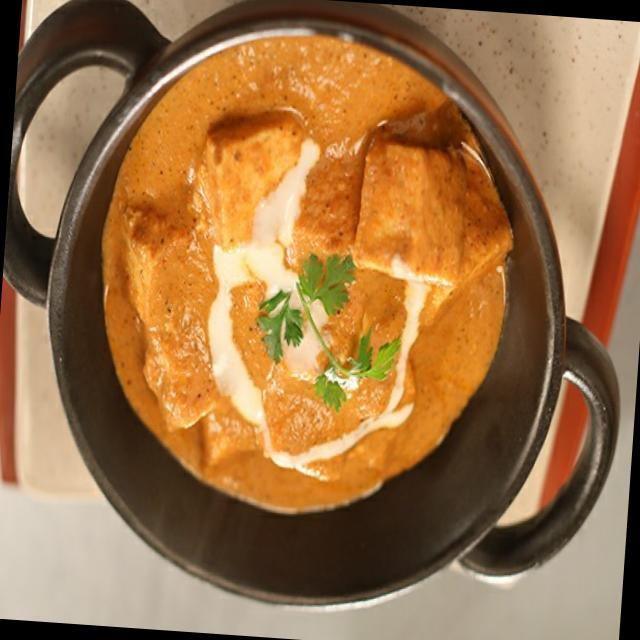ShahiPaneer: (80, 21, 532, 530)
